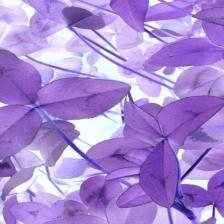purple: (0, 50, 131, 158), (158, 96, 224, 146), (140, 140, 179, 208), (148, 38, 224, 66), (110, 0, 149, 32)
